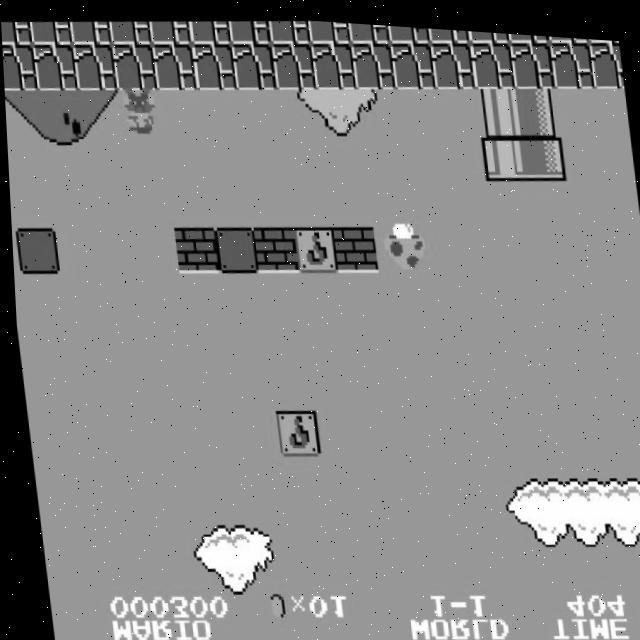1- brick_block: (171, 222, 217, 273), (250, 220, 296, 271), (330, 219, 376, 270)
11- little_mario: (113, 82, 161, 137)
12- mushroom: (377, 216, 425, 269)
13- mystery_block: (270, 404, 316, 455), (290, 220, 336, 271)
14- pipe: (474, 79, 520, 131), (514, 78, 560, 130)
15- pipe_head: (479, 124, 525, 176), (518, 124, 564, 175)
17- undestructible_block: (111, 39, 157, 91), (150, 38, 196, 90), (349, 35, 395, 87), (389, 34, 435, 86), (429, 33, 475, 85), (31, 41, 77, 92), (71, 40, 117, 91), (190, 38, 236, 89), (230, 37, 276, 88), (270, 37, 316, 88), (310, 36, 356, 87), (469, 33, 515, 84), (509, 32, 555, 83), (548, 32, 594, 83), (2, 42, 37, 93), (589, 32, 623, 82), (187, 15, 231, 44), (227, 14, 271, 43), (28, 18, 72, 46), (68, 18, 112, 46), (108, 17, 152, 45), (148, 16, 192, 44), (267, 14, 311, 42), (307, 16, 351, 41), (347, 18, 391, 40), (1, 19, 32, 47), (386, 20, 430, 39), (426, 22, 470, 40), (466, 24, 509, 39), (506, 27, 549, 38), (546, 29, 589, 37)
3- empty_block: (12, 225, 58, 276), (211, 221, 257, 272)
